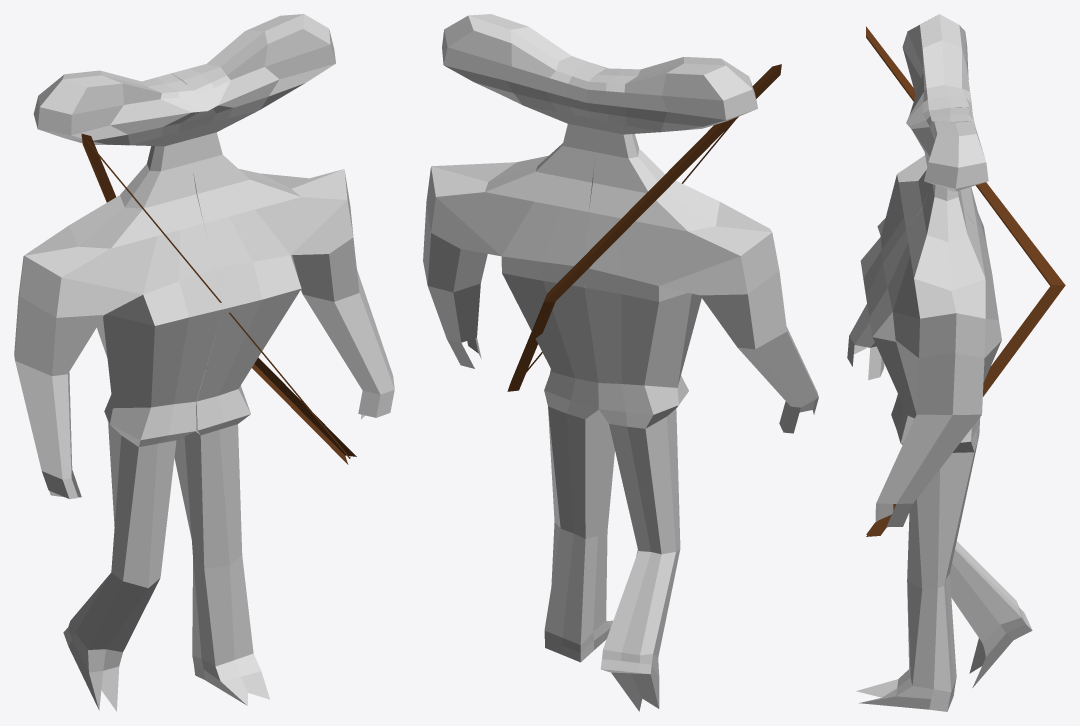
Rendered from Archer2.obj.
3 renders of one model, left to right at view 1: azimuth 30°, elevation 25°; view 2: azimuth 150°, elevation 25°; view 3: azimuth 270°, elevation 25°, orthographic. The views are drawn at different scales.
Parts seen in each view (by area): view 1: Cube, Plane.001_Bow; view 2: Cube, Plane.001_Bow; view 3: Cube, Plane.001_Bow.
Part boxes in pixels (<box>): Cube: <box>14,14,394,711</box>; Plane.001_Bow: <box>81,133,356,464</box>; Cube: <box>423,14,818,711</box>; Plane.001_Bow: <box>507,64,781,391</box>; Cube: <box>847,14,1032,711</box>; Plane.001_Bow: <box>866,26,1065,536</box>.
Bounding box in the file's own units: 0.9052 × 1.56 × 0.4826.
